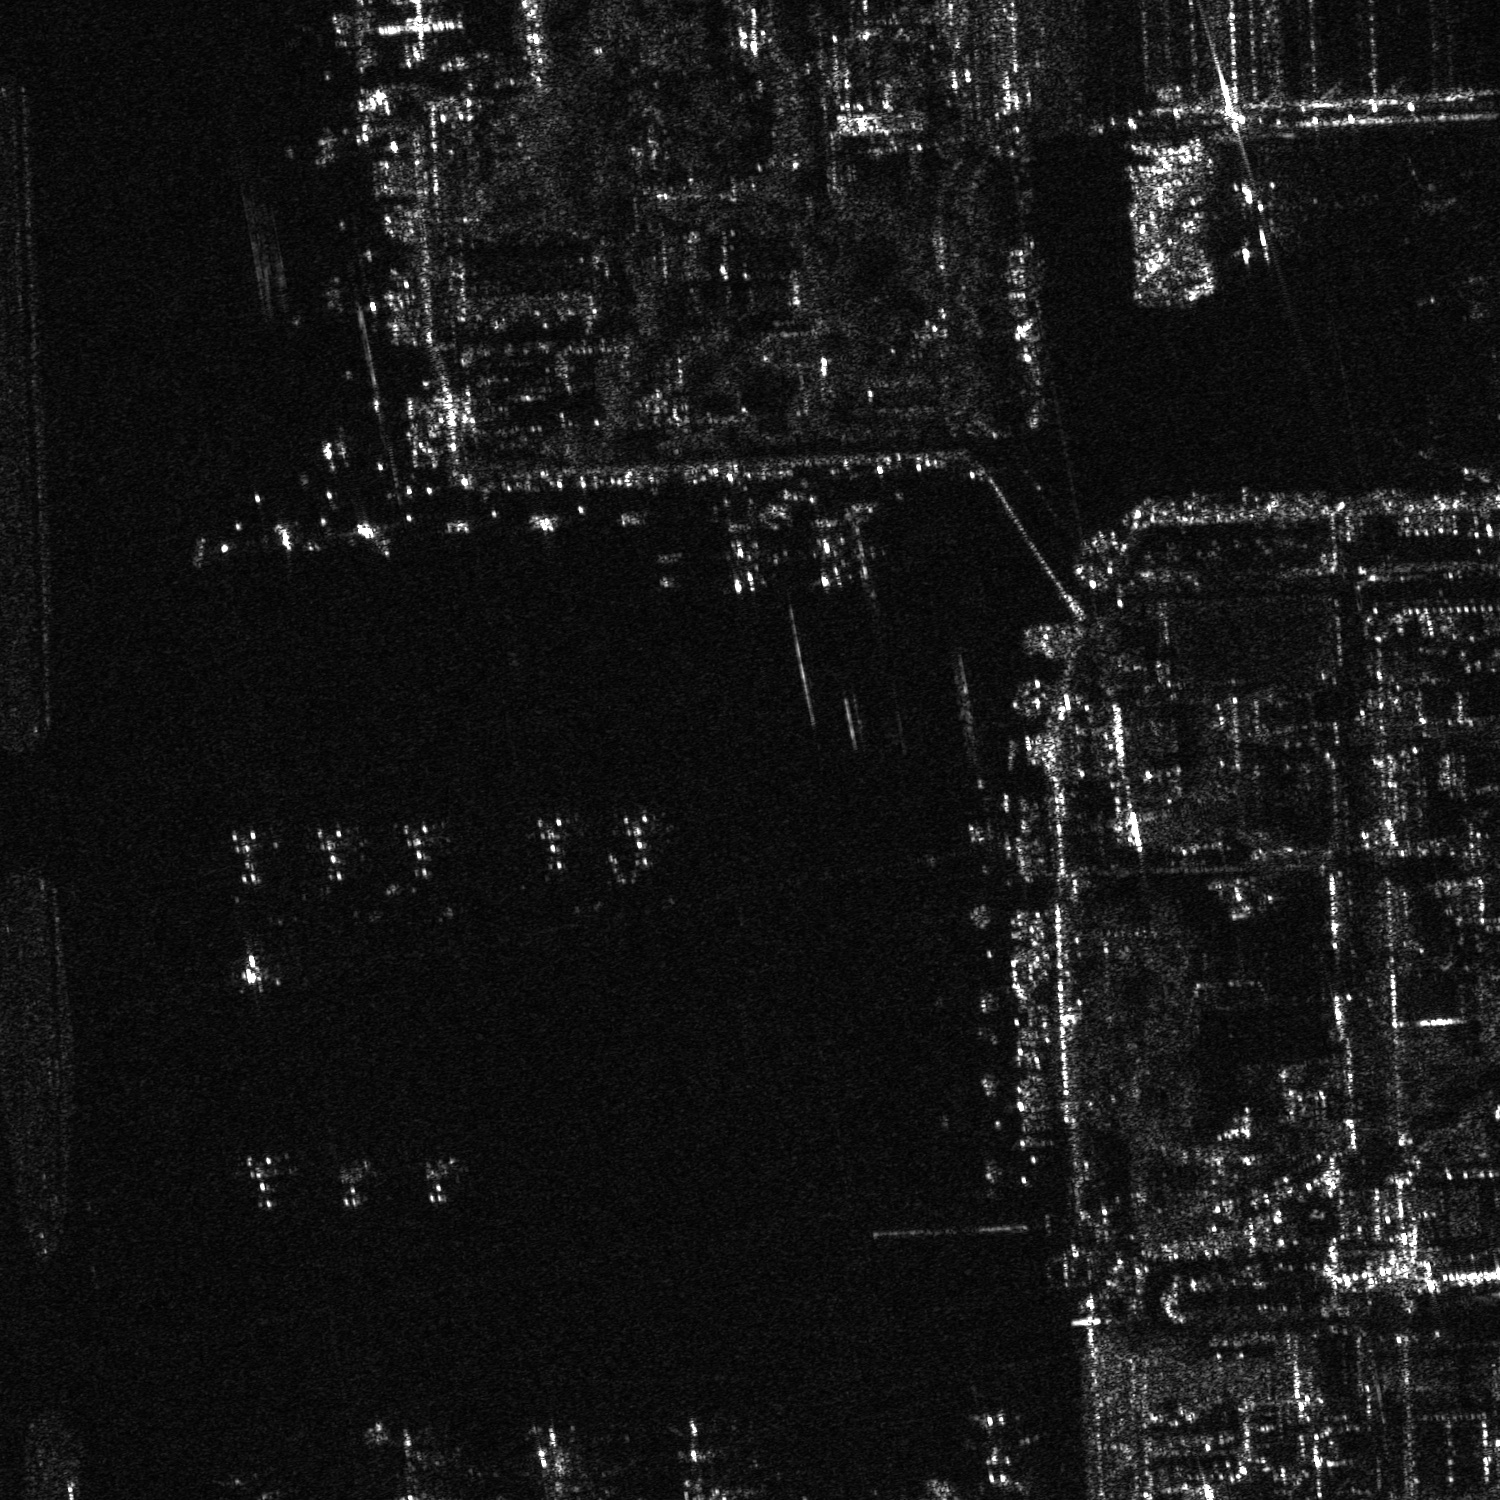A220: (955, 1409, 1047, 1495), (522, 1418, 588, 1497), (326, 1150, 376, 1212)
A320/321: (411, 1150, 466, 1207)
ARJ21: (707, 516, 782, 596), (227, 1146, 295, 1214), (223, 942, 277, 999)
Boeing737: (1223, 176, 1301, 266), (799, 514, 868, 593), (339, 512, 405, 562)
Boeing787: (662, 1413, 729, 1488)
other: (1359, 157, 1462, 245), (602, 805, 672, 875), (387, 813, 451, 889), (374, 1418, 440, 1488), (218, 821, 279, 889), (306, 815, 359, 889), (525, 809, 574, 879)
